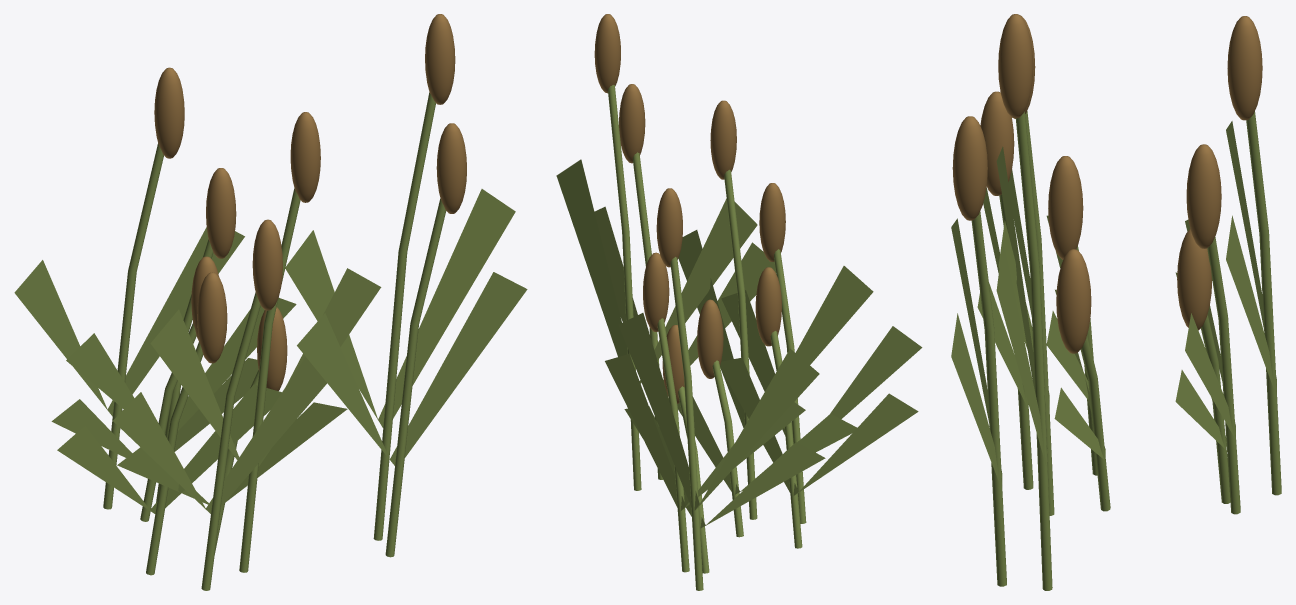
Rendered from reeds.glb.
3 views of the same model, side by side, from view 1: azimuth 30°, elevation 25°; view 2: azimuth 150°, elevation 25°; view 3: azimuth 270°, elevation 25° (orthographic). The views are drawn at different scales.
Visible parts, largest first — view 1: Long reed leaf.003, Long reed leaf.017, Reed stem.001, Long reed leaf.015, Reed stem.008, Long reed leaf.008, Long reed leaf.016, Long reed leaf.002, Long reed leaf.007, Long reed leaf.006, Reed stem.004, Reed stem.007 (+22 smaller); view 2: Long reed leaf.003, Long reed leaf.006, Long reed leaf.007, Long reed leaf.002, Long reed leaf.008, Long reed leaf.011, Long reed leaf.014, Reed stem.003, Reed stem.001, Long reed leaf.012, Long reed leaf.004, Reed stem.004 (+23 smaller); view 3: Reed stem.001, Reed stem.003, Reed stem.008, Cattail, Cattail.003, Cattail.001, Cattail.005, Cattail.008, Cattail.006, Reed stem.005, Cattail.002, Long reed leaf.003 (+18 smaller).
Part boxes in pixels (bbox=[...]): Long reed leaf.003: bbox=[378, 189, 515, 427]; Long reed leaf.017: bbox=[390, 272, 527, 465]; Reed stem.001: bbox=[373, 92, 435, 540]; Long reed leaf.015: bbox=[206, 356, 327, 513]; Reed stem.008: bbox=[385, 198, 446, 557]; Long reed leaf.008: bbox=[150, 309, 239, 459]; Long reed leaf.016: bbox=[297, 313, 394, 465]; Long reed leaf.002: bbox=[285, 230, 382, 427]; Long reed leaf.007: bbox=[107, 227, 244, 415]; Long reed leaf.006: bbox=[14, 260, 111, 415]; Reed stem.004: bbox=[239, 188, 300, 572]; Reed stem.007: bbox=[201, 292, 260, 590]; Long reed leaf.003: bbox=[556, 159, 627, 356]; Long reed leaf.006: bbox=[695, 348, 819, 510]; Long reed leaf.007: bbox=[618, 313, 699, 510]; Long reed leaf.002: bbox=[639, 198, 757, 383]; Long reed leaf.008: bbox=[795, 266, 873, 364]; Long reed leaf.011: bbox=[605, 354, 685, 510]; Long reed leaf.014: bbox=[830, 326, 922, 419]; Reed stem.003: bbox=[670, 257, 703, 590]; Reed stem.001: bbox=[608, 85, 641, 490]; Long reed leaf.012: bbox=[794, 393, 918, 495]; Long reed leaf.004: bbox=[702, 442, 825, 527]; Reed stem.004: bbox=[724, 169, 757, 519]; Reed stem.001: bbox=[1015, 111, 1052, 590]; Reed stem.003: bbox=[1246, 111, 1281, 495]; Reed stem.008: bbox=[971, 211, 1006, 586]; Cattail: bbox=[1056, 249, 1091, 353]; Cattail.003: bbox=[1227, 16, 1262, 120]; Cattail.001: bbox=[998, 14, 1033, 118]; Cattail.005: bbox=[1186, 144, 1221, 248]; Cattail.008: bbox=[952, 116, 987, 220]; Cattail.006: bbox=[1048, 156, 1083, 259]; Reed stem.005: bbox=[1207, 237, 1240, 514]; Cattail.002: bbox=[1177, 229, 1212, 330]; Long reed leaf.003: bbox=[996, 241, 1047, 465].
Size of the model in its own units: 1.82 by 2.08 by 1.04.
